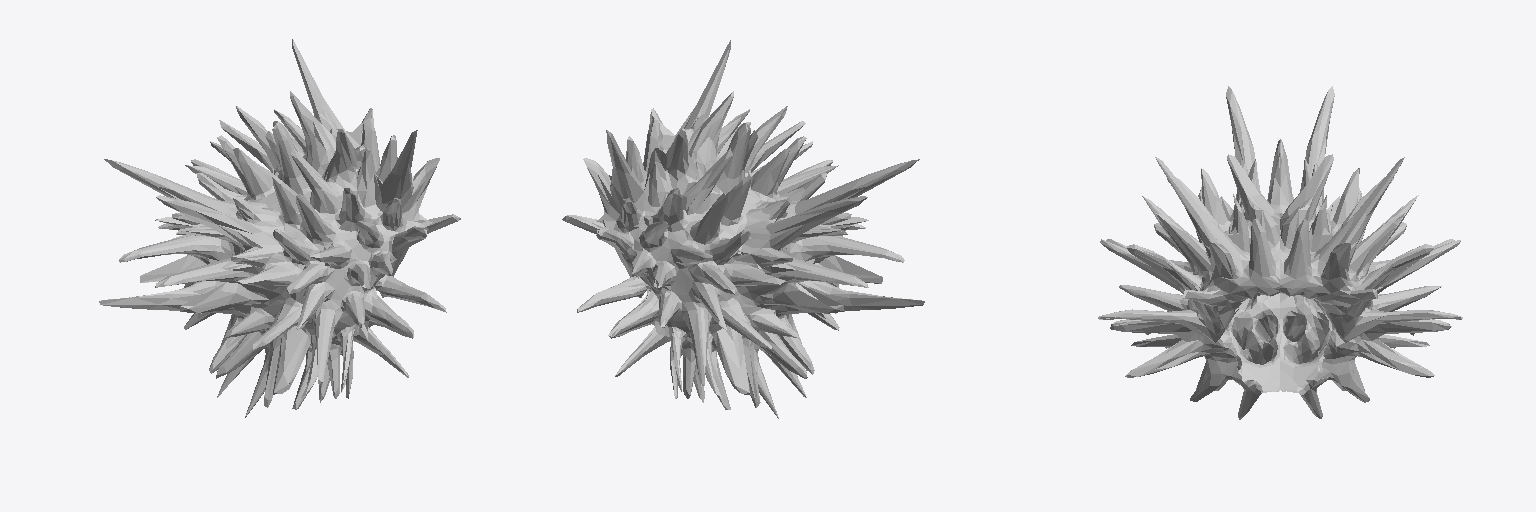
Rendered from hair1.obj.
3 renders of one model, left to right at view 1: azimuth 30°, elevation 25°; view 2: azimuth 150°, elevation 25°; view 3: azimuth 270°, elevation 25°, orthographic.
Parts seen in each view (by area): view 1: hair; view 2: hair; view 3: hair.
Boxes of the visible parts, x1=… form: hair: x1=99, y1=39, x2=460, y2=417; hair: x1=562, y1=40, x2=924, y2=418; hair: x1=1098, y1=86, x2=1462, y2=419.
Bounding box in the file's own units: 18.8 × 16.9 × 18.9.